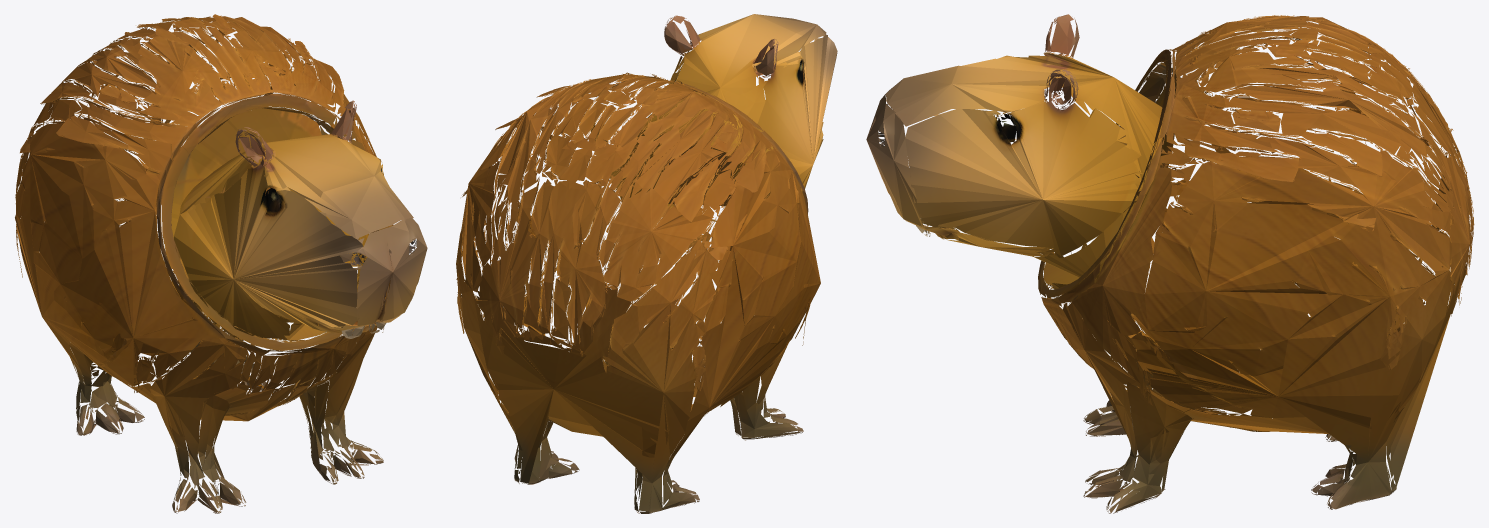
Rendered from BobriniCocosini.glb.
3 renders of one model, left to right at view 1: azimuth 30°, elevation 25°; view 2: azimuth 150°, elevation 25°; view 3: azimuth 270°, elevation 25°, orthographic. The views are drawn at different scales.
Visible parts, largest first — view 1: BobriniCocosini_1; view 2: BobriniCocosini_1; view 3: BobriniCocosini_1.
Part boxes in pixels (x1,y1,x2,y2): BobriniCocosini_1: (15,14,427,513); BobriniCocosini_1: (456,14,837,513); BobriniCocosini_1: (866,14,1474,513).
Size of the model in its own units: 4.67 by 6.02 by 7.72.
Materials: 1 (1 with a texture image).
